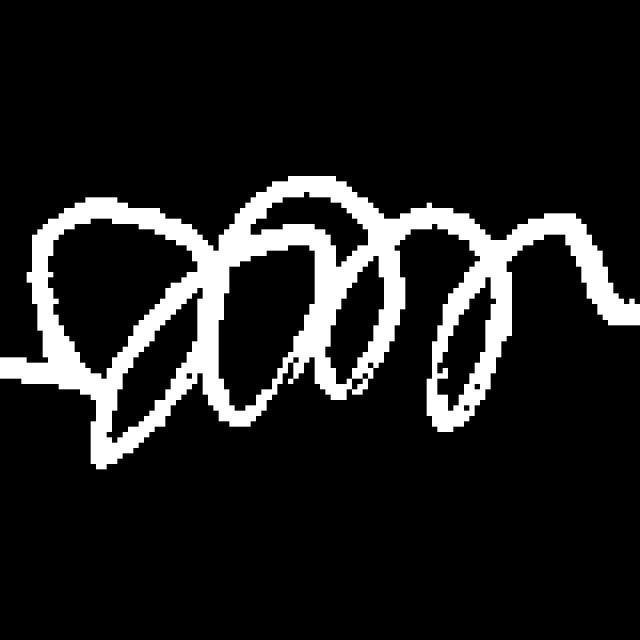inductor: (1, 163, 616, 470)
